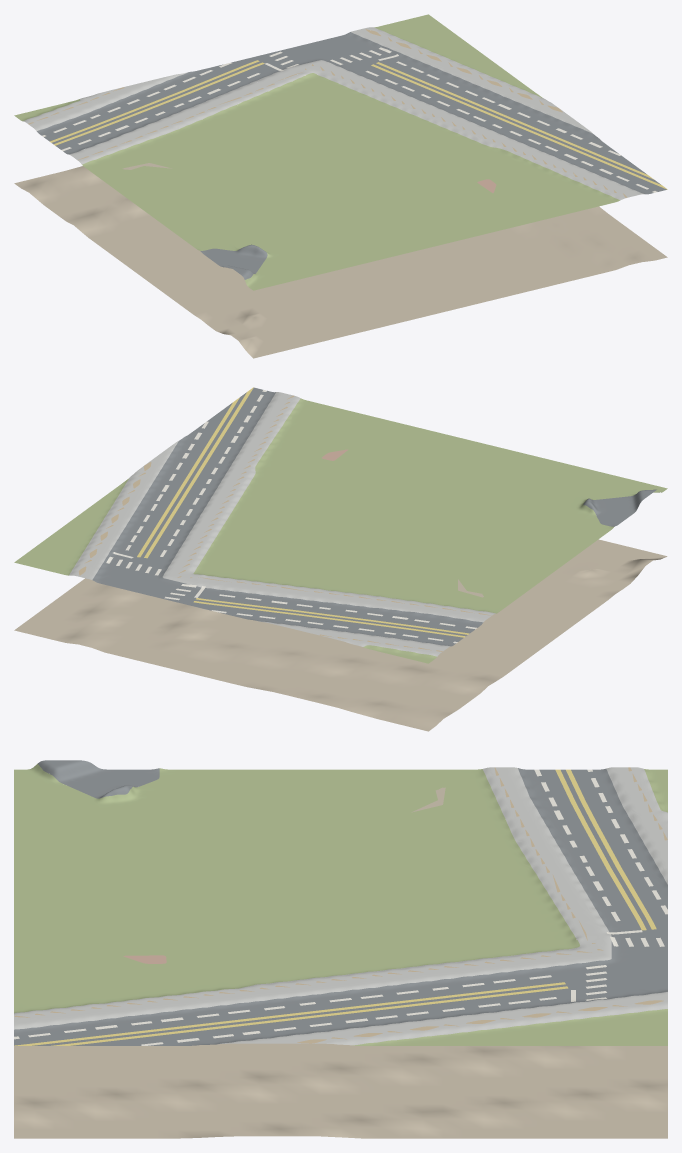
The picture shows the model from 3 angles, top to bottom: view 1: azimuth 30°, elevation 25°; view 2: azimuth 150°, elevation 25°; view 3: azimuth 270°, elevation 25°; orthographic projection. The views are drawn at different scales.
Visible parts, largest first — view 1: s_0_-3__grass, s_0_-3__soil, s_0_-3__asphalt, s_0_-3__stone_paving, s_0_-3__yellow_marking, s_0_-3__white_marking, s_0_-3__timber_deck; view 2: s_0_-3__grass, s_0_-3__soil, s_0_-3__asphalt, s_0_-3__stone_paving, s_0_-3__yellow_marking, s_0_-3__white_marking, s_0_-3__timber_deck; view 3: s_0_-3__grass, s_0_-3__soil, s_0_-3__asphalt, s_0_-3__stone_paving, s_0_-3__yellow_marking, s_0_-3__white_marking, s_0_-3__timber_deck.
Part boxes in pixels (x1,y1,x2,y2): s_0_-3__grass: (14,14,619,290); s_0_-3__soil: (14,163,667,358); s_0_-3__asphalt: (37,32,666,279); s_0_-3__stone_paving: (23,27,644,200); s_0_-3__yellow_marking: (50,60,667,189); s_0_-3__white_marking: (42,47,657,192); s_0_-3__timber_deck: (28,29,627,197); s_0_-3__grass: (14,398,667,663); s_0_-3__soil: (14,539,667,731); s_0_-3__asphalt: (92,387,656,646); s_0_-3__stone_paving: (69,392,495,656); s_0_-3__yellow_marking: (137,387,469,637); s_0_-3__white_marking: (106,390,476,643); s_0_-3__timber_deck: (78,395,491,651); s_0_-3__grass: (14,763,667,1045); s_0_-3__soil: (14,787,667,1138); s_0_-3__asphalt: (14,760,667,1045); s_0_-3__stone_paving: (14,767,667,1045); s_0_-3__yellow_marking: (14,769,656,1045); s_0_-3__white_marking: (14,769,667,1045); s_0_-3__timber_deck: (14,767,667,1043).
Bounding box in the file's own units: 128 × 22.01 × 128.
